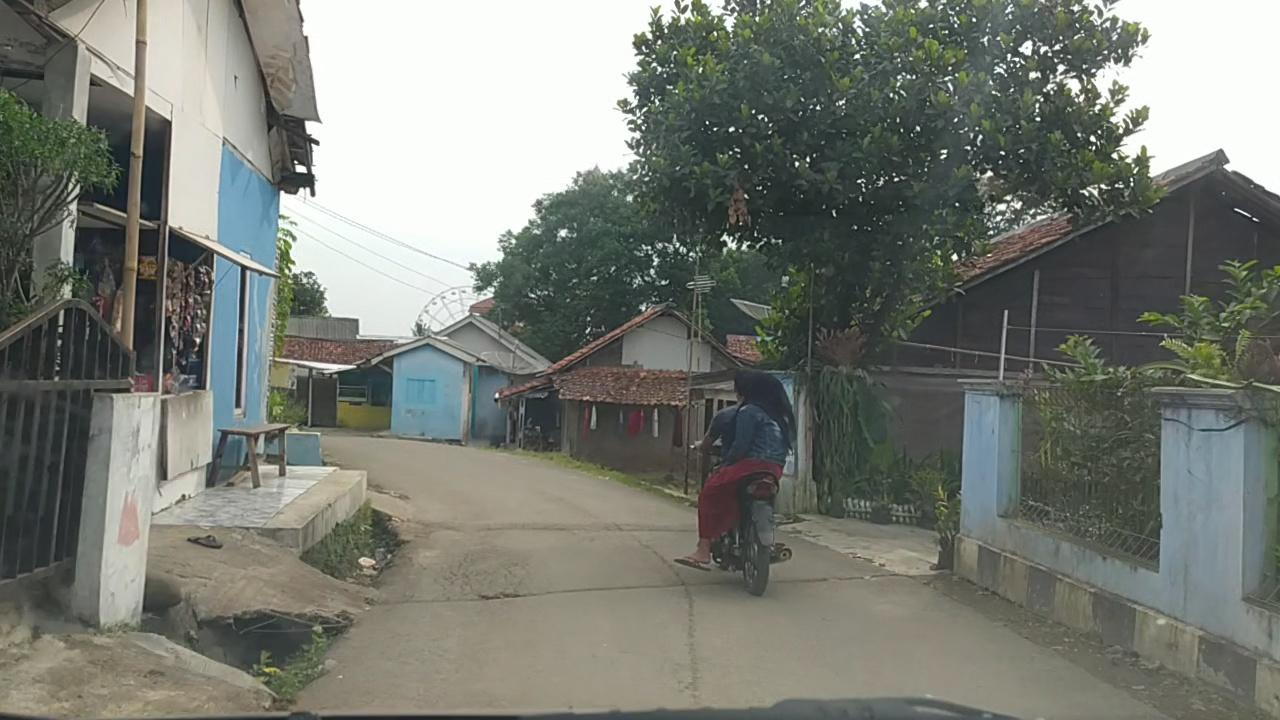pothole: (177, 613, 338, 702), (287, 507, 401, 587)
